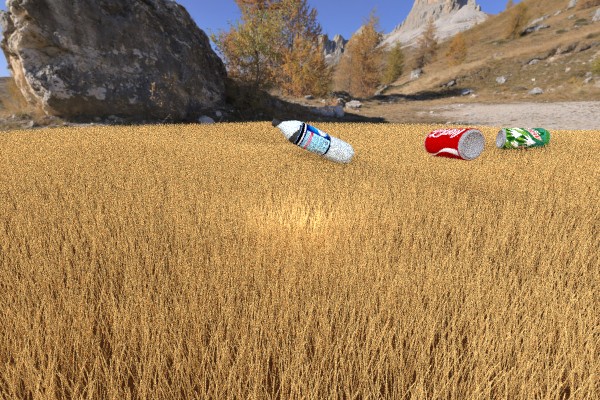bottle: (271, 118, 354, 164)
can: (423, 128, 485, 160), (495, 127, 551, 149)
